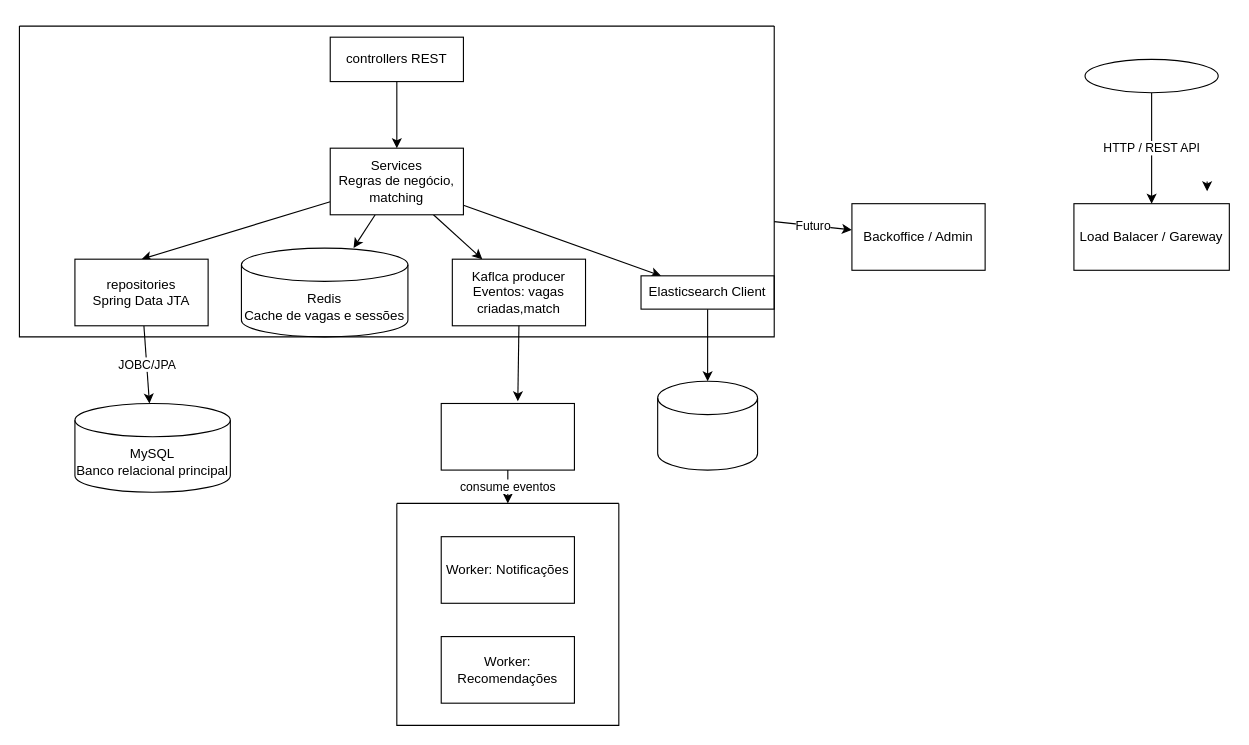
Some shapes in this 1249 by 745 pixel diagram are drawn without their labels. Each missing label, with the box of its shape:
Cliente Web: (1084, 58, 1218, 93)
consumidores/workes: (396, 502, 619, 725)
Elasticsearch Busca full-text: (657, 380, 758, 470)
Kafka Broker: (440, 402, 574, 470)
spring boot: (18, 25, 774, 337)
